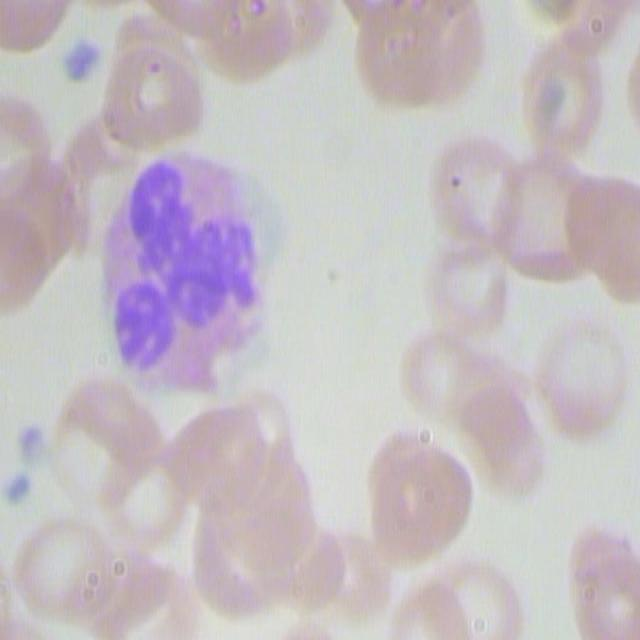RBC: (168, 399, 302, 532), (96, 0, 203, 152), (526, 290, 632, 442), (347, 2, 486, 116), (365, 428, 479, 560), (490, 155, 600, 288), (461, 382, 564, 512), (42, 383, 153, 501), (393, 322, 527, 418), (186, 0, 332, 88), (173, 518, 293, 624), (427, 130, 527, 253), (1, 158, 75, 323), (19, 510, 120, 626), (97, 448, 199, 562), (414, 227, 512, 339), (569, 160, 640, 304), (519, 40, 607, 152), (566, 518, 640, 639), (0, 88, 71, 200), (435, 532, 506, 640), (383, 552, 458, 640), (0, 0, 70, 51)
WBC: (99, 132, 265, 414)
platelets: (58, 30, 104, 91), (15, 419, 51, 470), (9, 463, 38, 522)
